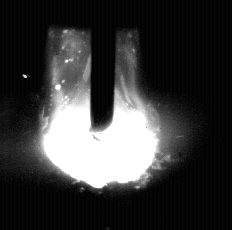arame: (91, 0, 116, 132)
poca: (43, 0, 158, 230)
